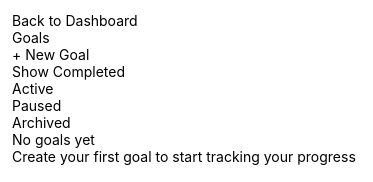
GoalsScreen › List View › toggles show completed filter
The width and height of the screenshot is (373, 182).
Check: the text "Show Completed" is shown, box [12, 63, 125, 80]
// Toggle to show completed
Click the button with aria-label "Show completed goals" at (68, 72), box [12, 63, 356, 80]
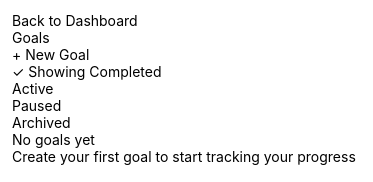
Check: the text "✓ Showing Completed" is shown, box [12, 63, 162, 80]
